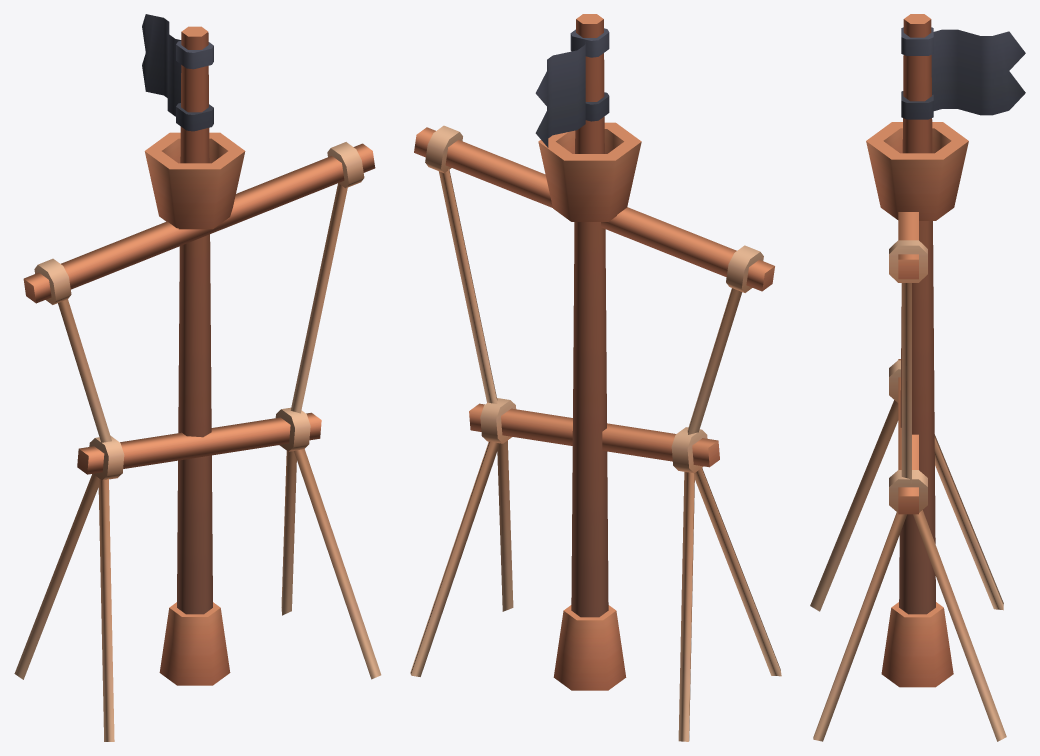
The model's file is mast-ropes.glb.
3 renders of one model, left to right at view 1: azimuth 30°, elevation 25°; view 2: azimuth 150°, elevation 25°; view 3: azimuth 270°, elevation 25°, orthographic. The views are drawn at different scales.
Visible parts, largest first — view 1: mast-ropes; view 2: mast-ropes; view 3: mast-ropes.
Boxes of the visible parts, box(x1,y1,x2,y2) form: mast-ropes: box(14, 14, 381, 741); mast-ropes: box(410, 14, 781, 741); mast-ropes: box(810, 14, 1025, 741).
Size of the model in its own units: 4.39 by 7.89 by 2.35.
Materials: 1 (1 with a texture image).
